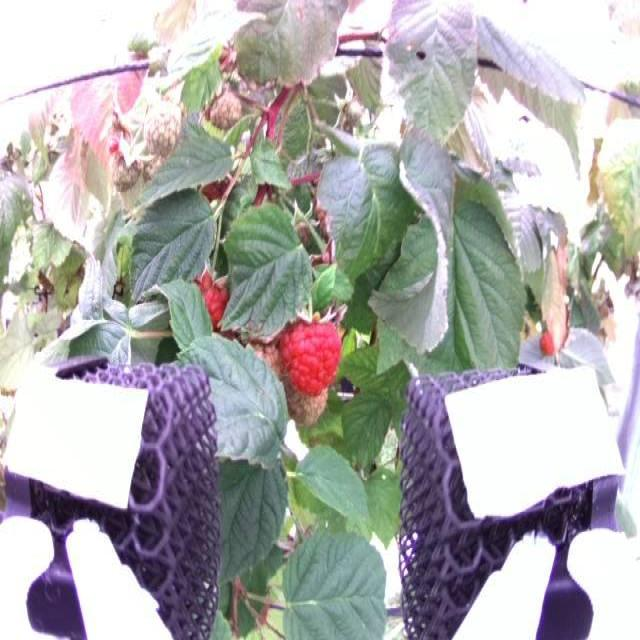Riped berries: (276, 316, 344, 394), (197, 262, 234, 325)
